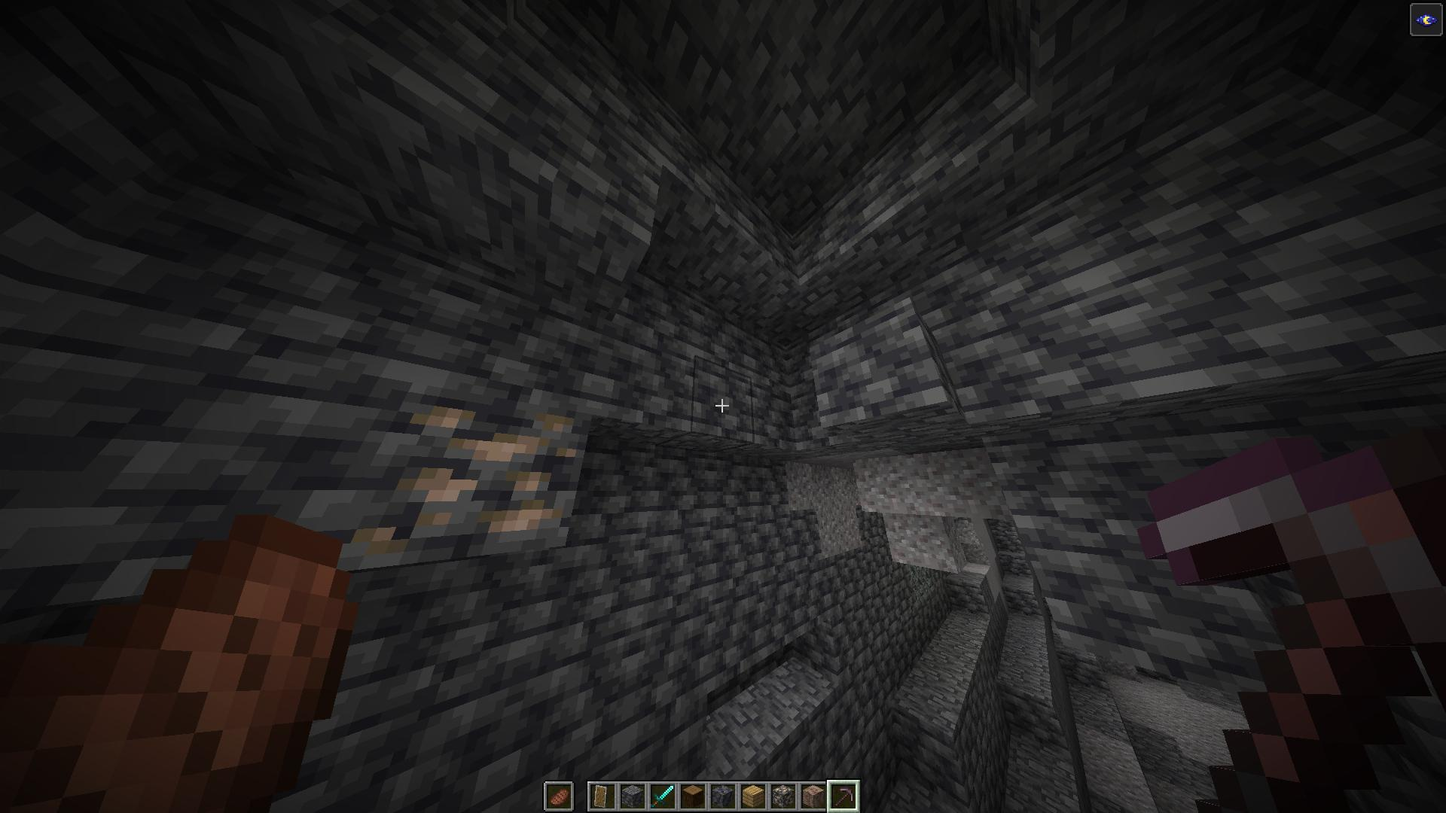iron ore: (343, 399, 581, 559)
